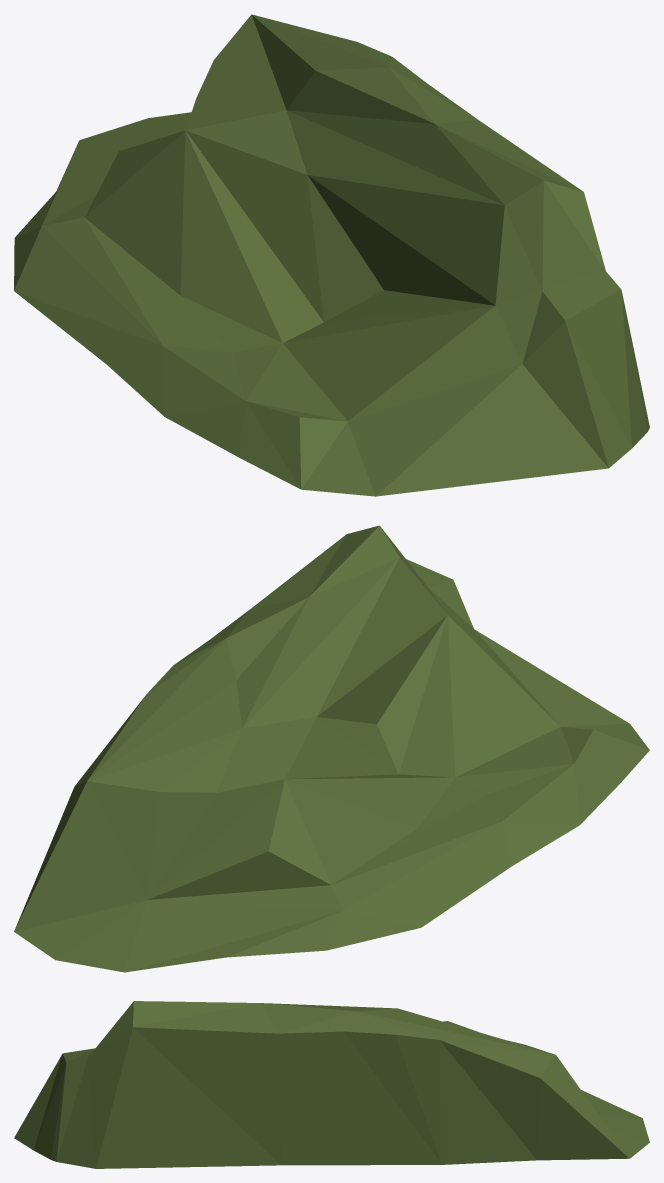
The model's file is SM_Env_GrassPatch_03.glb.
3 renders of one model, top to bottom at view 1: azimuth 30°, elevation 25°; view 2: azimuth 150°, elevation 25°; view 3: azimuth 270°, elevation 25°, orthographic. The views are drawn at different scales.
Visible parts, largest first — view 1: SM_Env_GrassPatch_03_part00; view 2: SM_Env_GrassPatch_03_part00; view 3: SM_Env_GrassPatch_03_part00.
Boxes of the visible parts, left/top/right/bottom form: SM_Env_GrassPatch_03_part00: left=14, top=14, right=649, bottom=496; SM_Env_GrassPatch_03_part00: left=14, top=525, right=649, bottom=972; SM_Env_GrassPatch_03_part00: left=14, top=1001, right=649, bottom=1168.
Bounding box in the file's own units: 0.7889 × 0.4355 × 1.73.
Materials: 1 (1 with a texture image).
